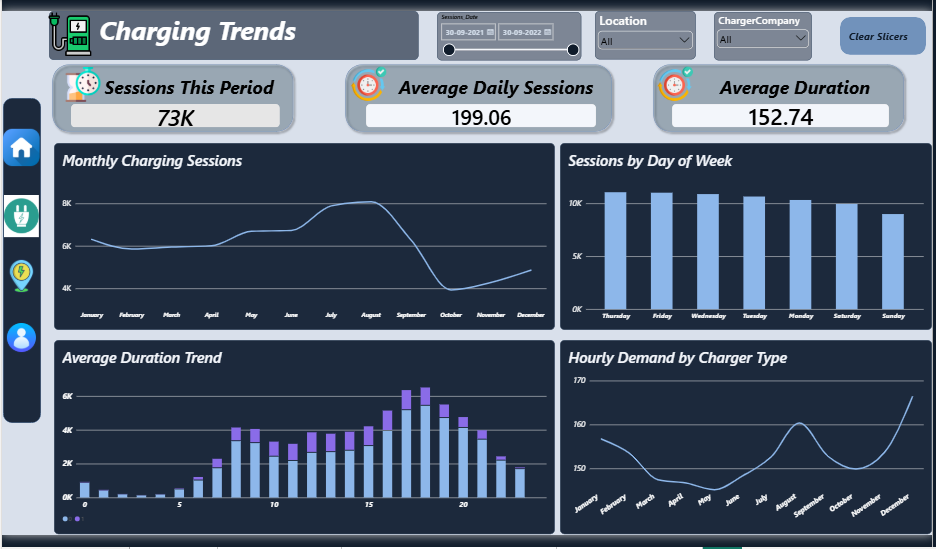

This screenshot's page, from the dashboard's own definition file:
{"tool":"powerbi","page":{"name":"chargingTrends","canvas":[1920,1080],"ordinal":1},"visuals":[{"type":"group","id":"g1","title":"Group 1","box":[95,101.2,551.2,156.9],"z":0,"group":"g6"},{"type":"group","id":"g2","title":"Group 1","box":[699.2,101.2,607.6,156.9],"z":0,"group":"g7"},{"type":"group","id":"g3","title":"Group 1","box":[1335.4,101.2,572.9,156.9],"z":0,"group":"g8"},{"type":"group","id":"g4","title":"Group 4","box":[0,179.6,84.6,671],"z":0},{"type":"shape","box":[2,179.6,78.5,671],"z":0,"group":"g9"},{"type":"shape","box":[2.1,179.6,78.5,671],"z":0,"group":"g4"},{"type":"group","id":"g5","title":"Group 5","box":[80.5,0,780.4,101.2],"z":1000},{"type":"textbox","box":[98,0,762.9,101.2],"z":1000,"group":"g5"},{"type":"image","box":[668.9,109.1,173,86.7],"z":1000,"group":"g7"},{"type":"image","box":[1306.8,109.1,163.1,86.7],"z":1000,"group":"g8"},{"type":"image","box":[72.3,116.6,190.4,72.3],"z":1000,"group":"g6"},{"type":"group","id":"g6","title":"Group 2","box":[72.3,101.2,573.9,156.9],"z":2000},{"type":"shape","box":[95,101.2,515.4,156.9],"z":2000,"group":"g1"},{"type":"shape","box":[699.2,101.2,568.2,156.9],"z":2000,"group":"g2"},{"type":"shape","box":[1335.4,101.2,535.7,156.9],"z":2000,"group":"g3"},{"type":"group","id":"g7","title":"Group 2","box":[668.9,101.2,637.9,156.9],"z":3000},{"type":"textbox","box":[125.4,132,520.8,76.6],"z":3000,"group":"g1"},{"type":"textbox","box":[732.7,132,574.2,76.6],"z":3000,"group":"g2"},{"type":"textbox","box":[1367,132,541.3,76.6],"z":3000,"group":"g3"},{"type":"group","id":"g8","title":"Group 2","box":[1306.8,101.2,600.8,156.9],"z":4000},{"type":"cardVisual","fields":{"Data":["ev_charging_analytics charging_sessions.Sessions This Period"]},"box":[141.7,192.6,431.5,48.1],"z":4000,"group":"g1"},{"type":"cardVisual","fields":{"Data":["ev_charging_analytics charging_sessions.Average Daily Sessions"]},"box":[750.7,192.6,475.6,48.1],"z":4000,"group":"g2"},{"type":"cardVisual","fields":{"Data":["ev_charging_analytics charging_sessions.Avg_Duration"]},"box":[1383.9,192.6,448.4,48.1],"z":4000,"group":"g3"},{"type":"columnChart","title":"Average Duration Trend","fields":{"Y":["ev_charging_analytics charging_sessions.total_sesions"],"Category":["ev_charging_analytics charging_sessions.Starting Hour"],"Series":["ev_charging_analytics charging_sessions.ChargerType"]},"box":[107.4,679.2,1034.3,400.5],"z":5000},{"type":"clusteredColumnChart","title":"Sessions by Day of Week","fields":{"Category":["ev_charging_analytics charging_sessions.Weekday"],"Y":["ev_charging_analytics charging_sessions.total_sesions"]},"box":[1152,272.5,768,386.1],"z":6000},{"type":"lineChart","title":"Hourly Demand by Charger Type","fields":{"Category":["ev_charging_analytics charging_sessions.Sessions_Date.Variation.Date Hierarchy.Month"],"Y":["ev_charging_analytics charging_sessions.Avg_Duration"]},"box":[1152,679.2,768,400.5],"z":7000},{"type":"lineChart","title":"Monthly Charging Sessions","fields":{"Category":["ev_charging_analytics charging_sessions.Sessions_Date.Variation.Date Hierarchy.Month"],"Y":["ev_charging_analytics charging_sessions.total_sesions"]},"box":[107.4,272.5,1034.3,386.1],"z":8000},{"type":"slicer","fields":{"Values":["ev_charging_analytics charging_sessions.Sessions_Date"]},"box":[897.5,2.5,297.5,100],"z":9000},{"type":"slicer","fields":{"Values":["ev_charging_analytics charging_sessions.Location"]},"box":[1225,0,208,100],"z":10000},{"type":"slicer","fields":{"Values":["ev_charging_analytics charging_sessions.ChargerCompany"]},"box":[1470,2.5,202,100],"z":11000},{"type":"actionButton","box":[1730,12.5,177.5,78.5],"z":12000},{"type":"group","id":"g9","title":"Group 4","box":[1.9,179.6,78.6,671],"z":13000},{"type":"image","box":[2,232,76.4,101.2],"z":16000,"group":"g9"},{"type":"image","box":[4.1,256,74.3,76.4],"z":16000,"group":"g4"},{"type":"image","box":[4.1,380.7,72.3,86.7],"z":17000,"group":"g4"},{"type":"image","box":[4.1,380.7,72.3,86.7],"z":17000,"group":"g9"},{"type":"image","box":[2.1,506.1,80.5,80.5],"z":18000,"group":"g4"},{"type":"image","box":[1.9,512.8,76.4,70.2],"z":18000,"group":"g9"},{"type":"image","box":[0,644.4,84.6,70.2],"z":19000,"group":"g4"},{"type":"image","box":[4.1,644.9,72.3,59.9],"z":19000,"group":"g9"},{"type":"image","box":[80.5,0,117.1,96.1],"z":19002,"group":"g5"}]}

Visuals, with their boxes on the page's 1920x1080 design canvas (x1, y1, x2, y2). These are canvas units, not pixel positions in the 936x549 screenshot, which may show the page scaled, cropped or inside an application window:
"Group 1" group: 95 101 646 258
"Group 1" group: 699 101 1307 258
"Group 1" group: 1335 101 1908 258
"Group 4" group: 0 180 85 851
shape: 2 180 80 851
shape: 2 180 81 851
"Group 5" group: 80 0 861 101
textbox: 98 0 861 101
image: 669 109 842 196
image: 1307 109 1470 196
image: 72 117 263 189
"Group 2" group: 72 101 646 258
shape: 95 101 610 258
shape: 699 101 1267 258
shape: 1335 101 1871 258
"Group 2" group: 669 101 1307 258
textbox: 125 132 646 209
textbox: 733 132 1307 209
textbox: 1367 132 1908 209
"Group 2" group: 1307 101 1908 258
cardVisual - ev_charging_analytics charging_sessions.Sessions This Period: 142 193 573 241
cardVisual - ev_charging_analytics charging_sessions.Average Daily Sessions: 751 193 1226 241
cardVisual - ev_charging_analytics charging_sessions.Avg_Duration: 1384 193 1832 241
"Average Duration Trend" columnChart: 107 679 1142 1080
"Sessions by Day of Week" clusteredColumnChart: 1152 272 1920 659
"Hourly Demand by Charger Type" lineChart: 1152 679 1920 1080
"Monthly Charging Sessions" lineChart: 107 272 1142 659
slicer - ev_charging_analytics charging_sessions.Sessions_Date: 898 2 1195 102
slicer - ev_charging_analytics charging_sessions.Location: 1225 0 1433 100
slicer - ev_charging_analytics charging_sessions.ChargerCompany: 1470 2 1672 102
actionButton: 1730 12 1908 91
"Group 4" group: 2 180 80 851
image: 2 232 78 333
image: 4 256 78 332
image: 4 381 76 467
image: 4 381 76 467
image: 2 506 83 587
image: 2 513 78 583
image: 0 644 85 715
image: 4 645 76 705
image: 80 0 198 96
